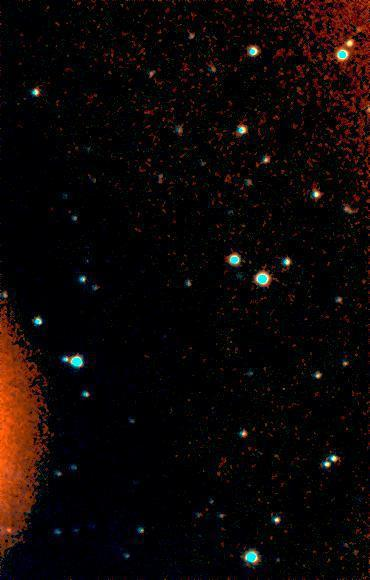star: (1, 519, 31, 549)
